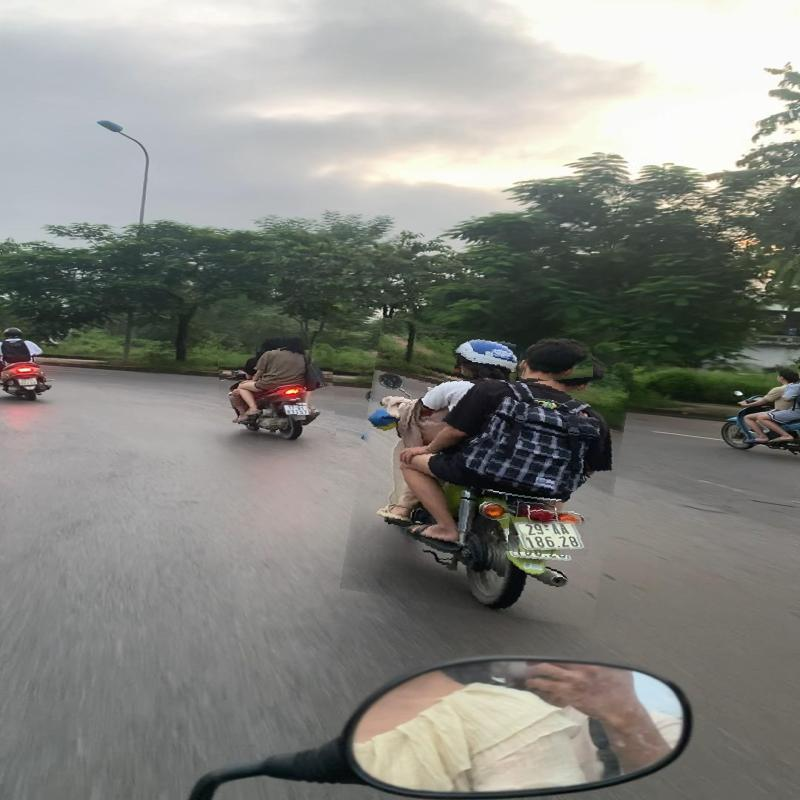helmet: (453, 336, 520, 382)
licenseplate: (508, 518, 590, 555), (283, 404, 311, 415)
motorcyclist: (350, 326, 626, 619), (218, 332, 335, 445)
nohelmet: (516, 334, 593, 382), (256, 334, 286, 351), (774, 366, 800, 385), (279, 334, 308, 350)
